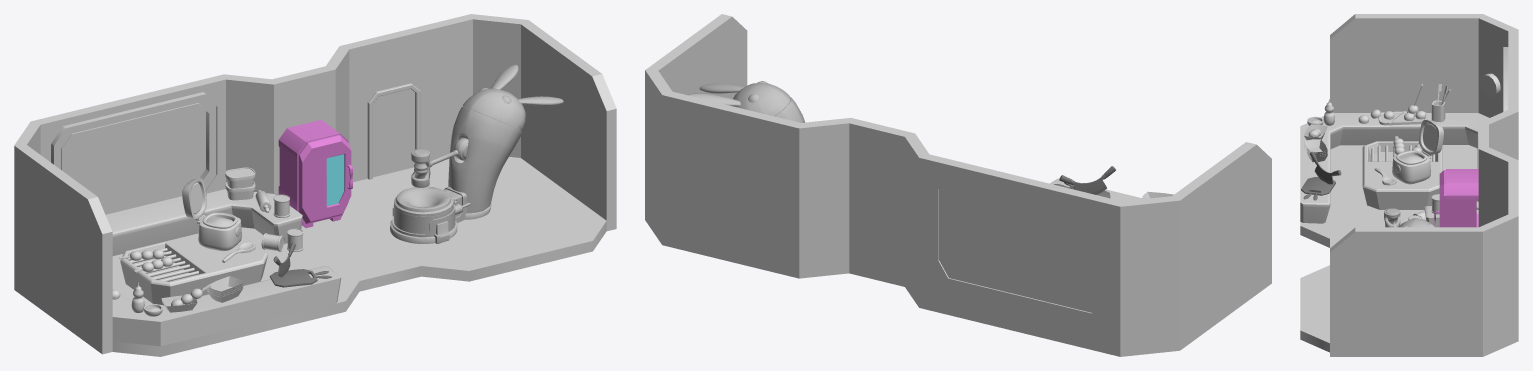
The model's file is BUILD_SECURE_Kitchen.fbx.
3 renders of one model, left to right at view 1: azimuth 30°, elevation 25°; view 2: azimuth 150°, elevation 25°; view 3: azimuth 270°, elevation 25°, orthographic. The views are drawn at different scales.
Visible parts, largest first — view 1: SM_Kitchen_Whole, SM_Window_Closed, SM_RobotBunny003, SM_Fridge, SM_Station_RiceCooker, SM_IceCream009, SM_Station_Toppings, SM_Station_Grill, SM_RobotHammer003, SM_Station_CuttingBoard_weird; view 2: SM_Kitchen_Whole, SM_Window_Closed, SM_RobotBunny003, SM_Station_CuttingBoard_weird; view 3: SM_Kitchen_Whole, SM_Fridge, SM_Station_RiceCooker, SM_Station_Skewers, SM_Station_Toppings, SM_Station_CuttingBoard_weird, SM_Station_Grill, SM_Button, SM_RobotHammer003, SM_IceCream009, SM_RobotBunny003.
Boxes of the visible parts, bbox=[...] form: SM_Kitchen_Whole: bbox=[14, 14, 616, 356]; SM_Window_Closed: bbox=[62, 104, 205, 214]; SM_RobotBunny003: bbox=[390, 64, 563, 243]; SM_Fridge: bbox=[278, 120, 352, 227]; SM_Station_RiceCooker: bbox=[182, 178, 255, 262]; SM_IceCream009: bbox=[225, 167, 303, 251]; SM_Station_Toppings: bbox=[131, 276, 243, 316]; SM_Station_Grill: bbox=[119, 248, 201, 281]; SM_RobotHammer003: bbox=[411, 138, 468, 187]; SM_Station_CuttingBoard_weird: bbox=[269, 242, 331, 287]; SM_Kitchen_Whole: bbox=[645, 14, 1271, 356]; SM_Window_Closed: bbox=[939, 179, 1101, 312]; SM_RobotBunny003: bbox=[687, 81, 805, 122]; SM_Station_CuttingBoard_weird: bbox=[1054, 166, 1115, 198]; SM_Kitchen_Whole: bbox=[1300, 14, 1518, 356]; SM_Fridge: bbox=[1434, 169, 1478, 227]; SM_Station_RiceCooker: bbox=[1374, 120, 1443, 185]; SM_Station_Skewers: bbox=[1358, 84, 1450, 125]; SM_Station_Toppings: bbox=[1304, 99, 1334, 162]; SM_Station_CuttingBoard_weird: bbox=[1301, 151, 1341, 200]; SM_Station_Grill: bbox=[1371, 136, 1435, 161]; SM_Button: bbox=[1480, 73, 1500, 97]; SM_RobotHammer003: bbox=[1384, 208, 1400, 227]; SM_IceCream009: bbox=[1408, 194, 1478, 220]; SM_RobotBunny003: bbox=[1398, 218, 1435, 227].
Size of the model in its own units: 580 by 246 by 156.
